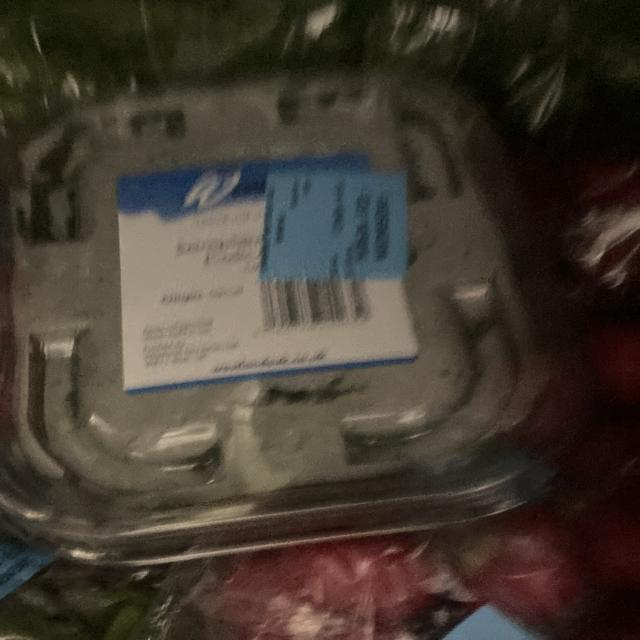product-labels: (263, 173, 408, 286)
